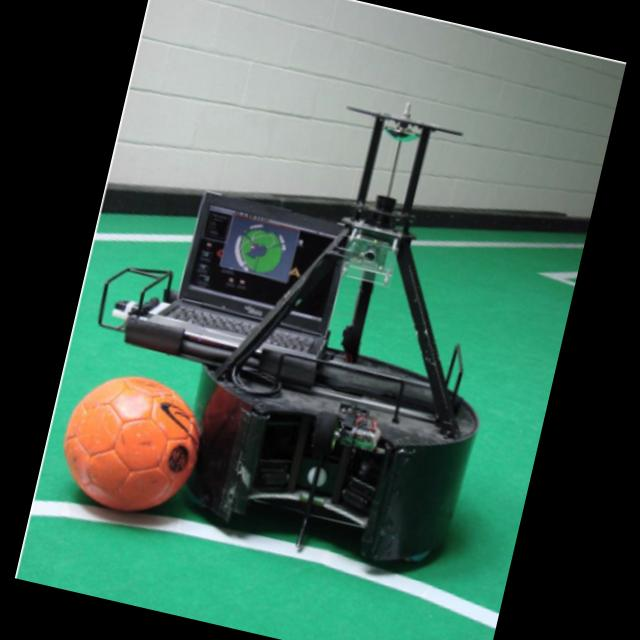ball: (63, 377, 198, 512)
robot: (97, 108, 479, 563)
